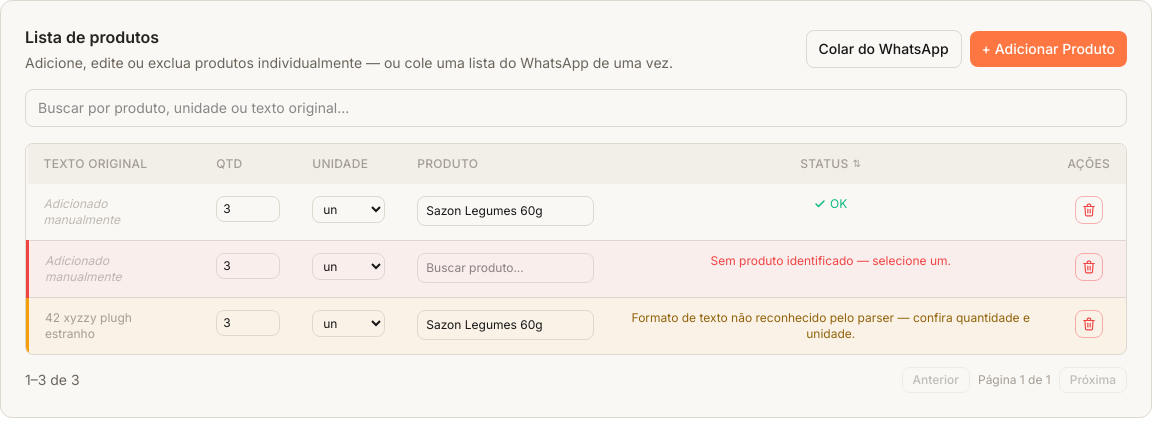
Test: GridProdutosSection — ordenação por Status (3 estados) › cicla null -> asc -> desc -> null no ícone do header e reordena por urgência (rank)
The image size is (1152, 435).
Click the button "Status ⇅" at (831, 164), box [626,156,1036,172]
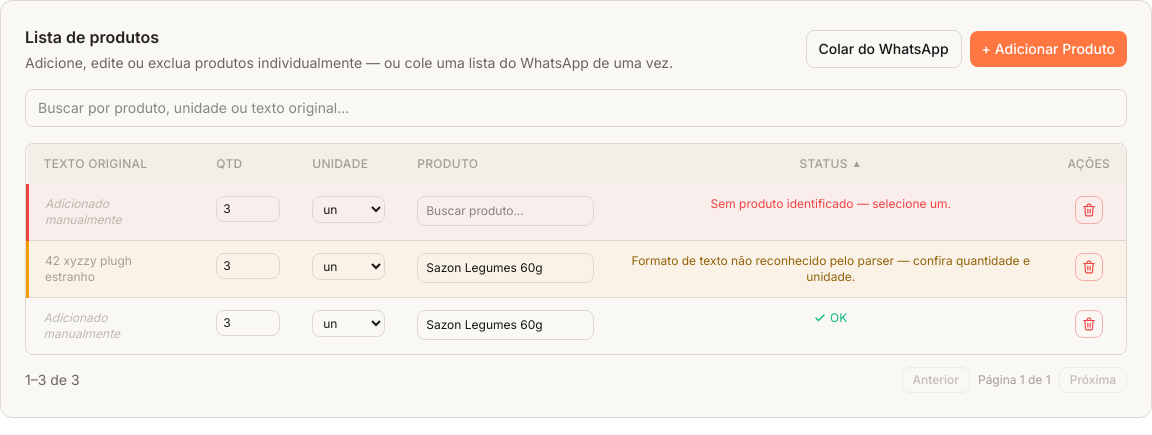
expect the text "Sem produto identificado — selecione um." is shown: met, box [710,196,951,211]
expect the button "Status ▲" is shown: met
Click the button "Status ▲" at (831, 164), box [626,156,1036,172]
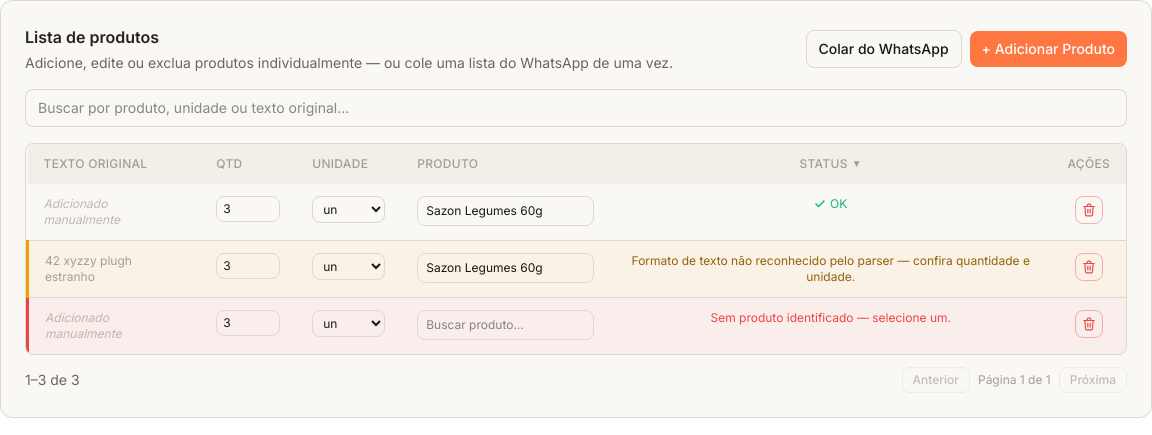
expect the text "OK" is shown: met, box [814,196,847,212]
expect the button "Status ▼" is shown: met
Click the button "Status ▼" at (831, 164), box [626,156,1036,172]
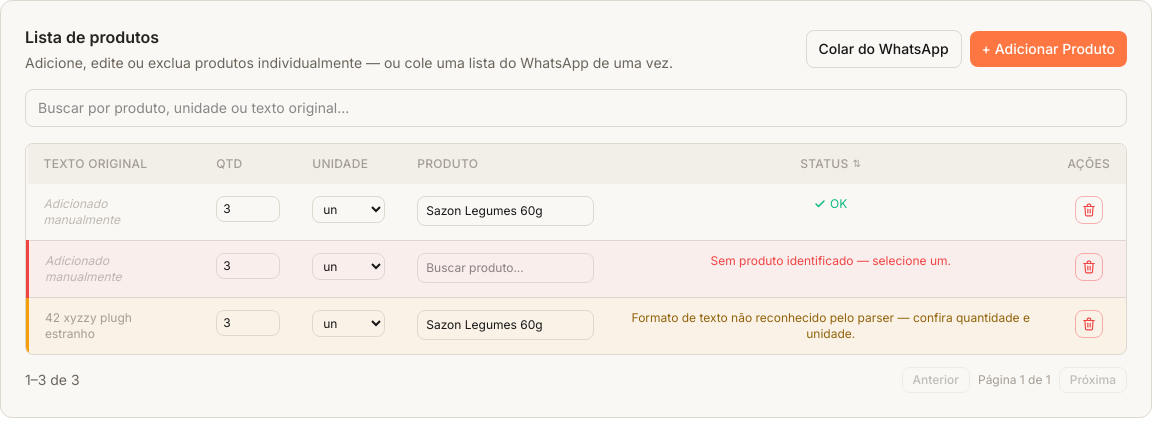
expect the button "Status ⇅" is shown: met, box [626,156,1036,172]
